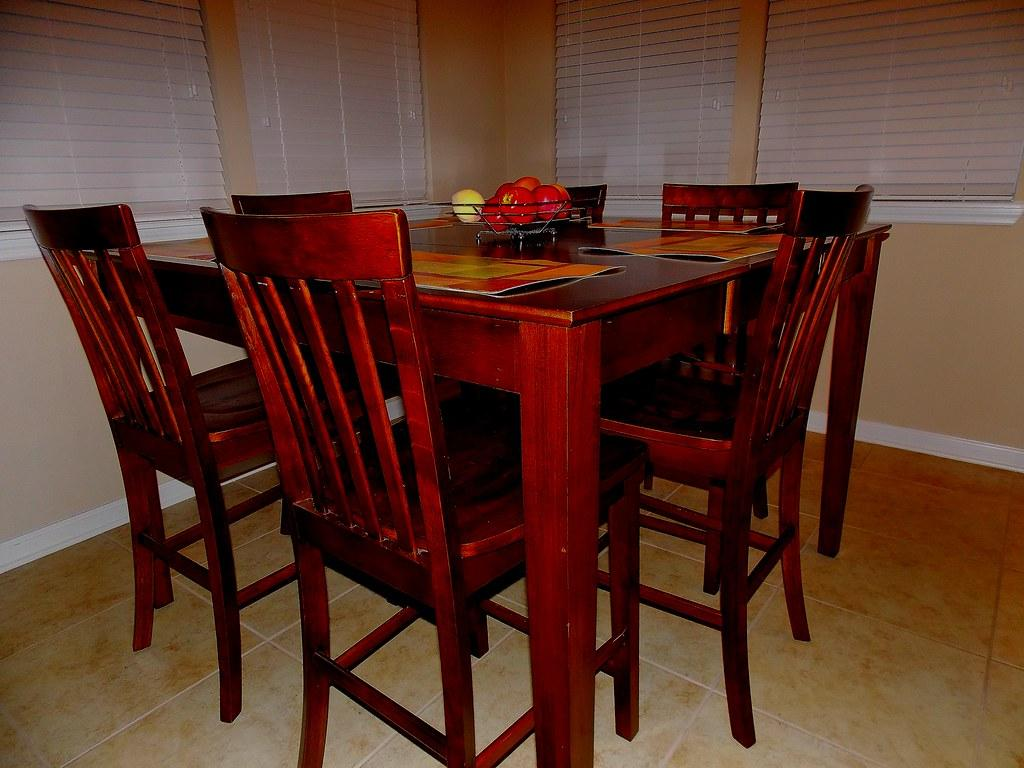table: (95, 201, 864, 768)
